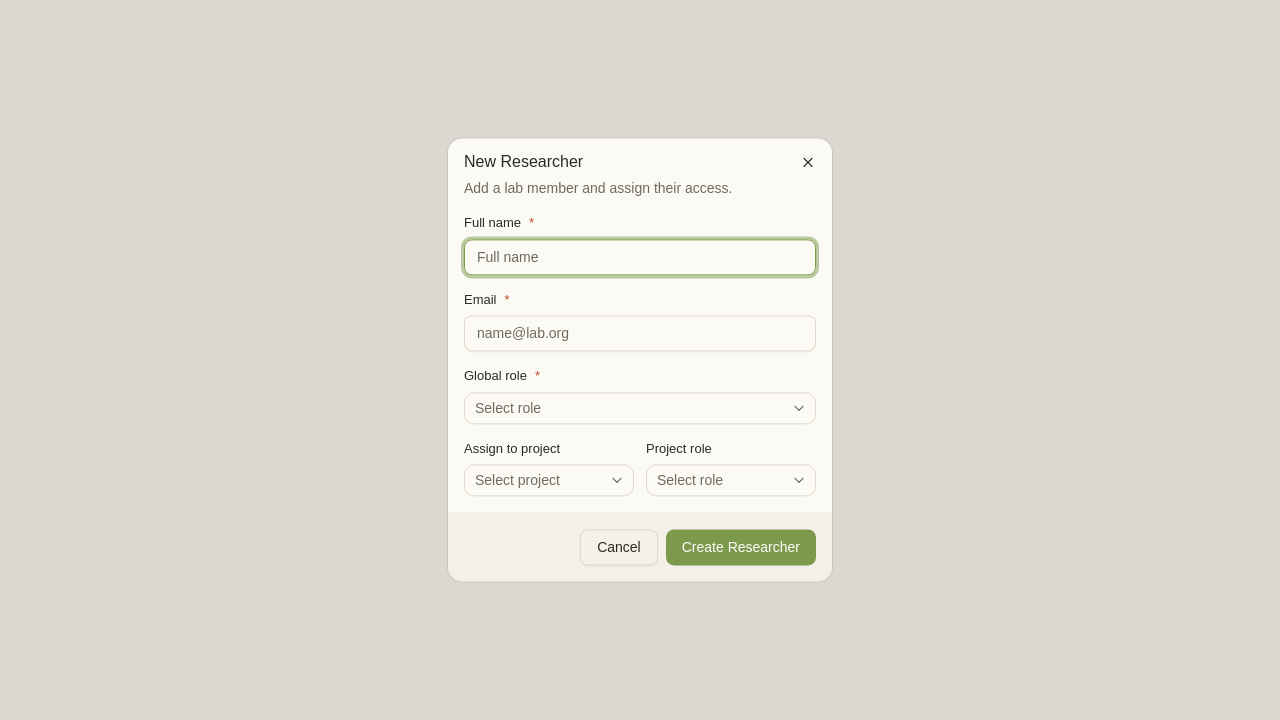
it: ResearcherFormDialog › should show an invalid-email error when an invalid email is typed
Type "Grace" into the field with placeholder "Full name".
click(640, 257); type("Grace")  # box [464, 239, 816, 275]
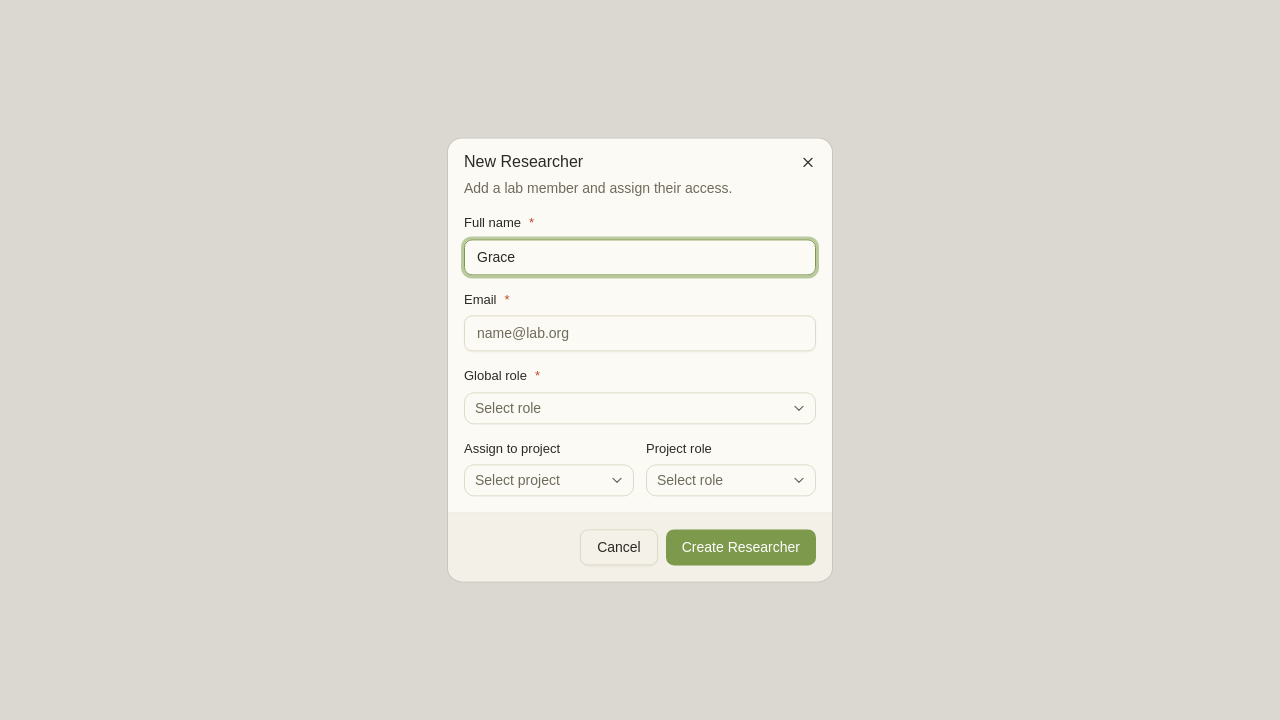
Type "not-an-email" into the field with placeholder "name@lab.org".
click(640, 334); type("not-an-email")  # box [464, 316, 816, 352]
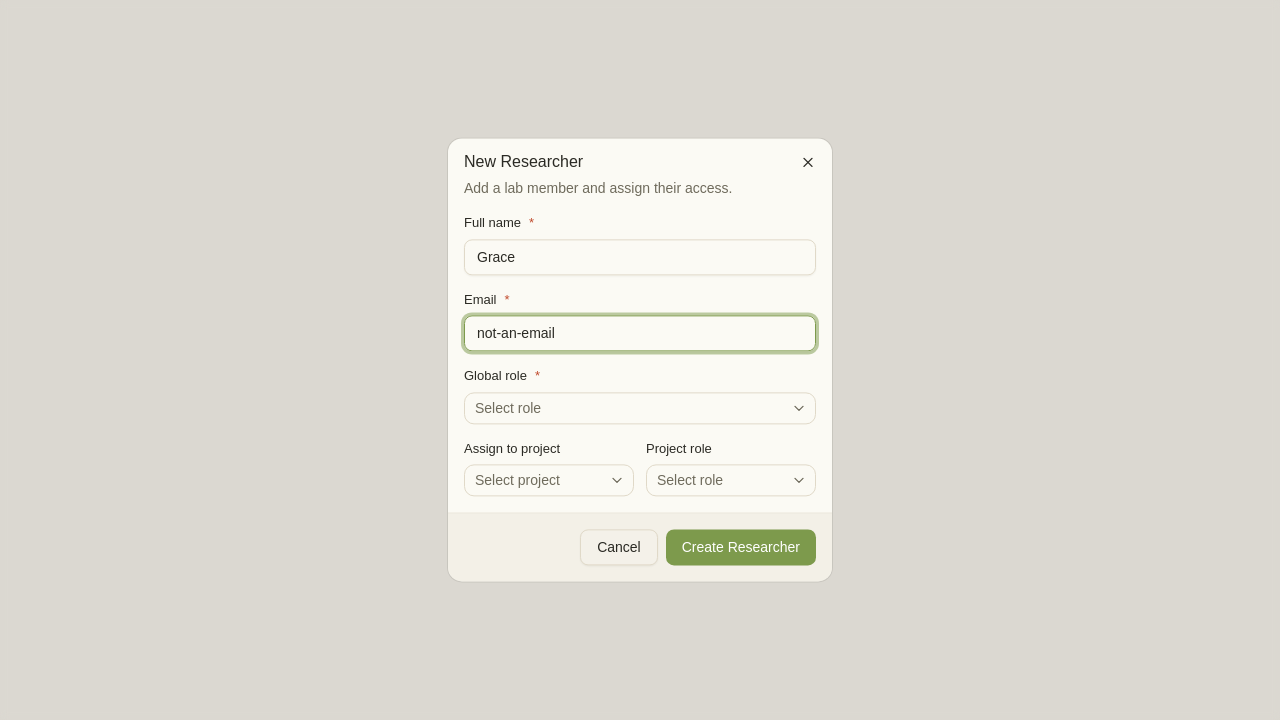
Submit the form, box [464, 154, 816, 566]
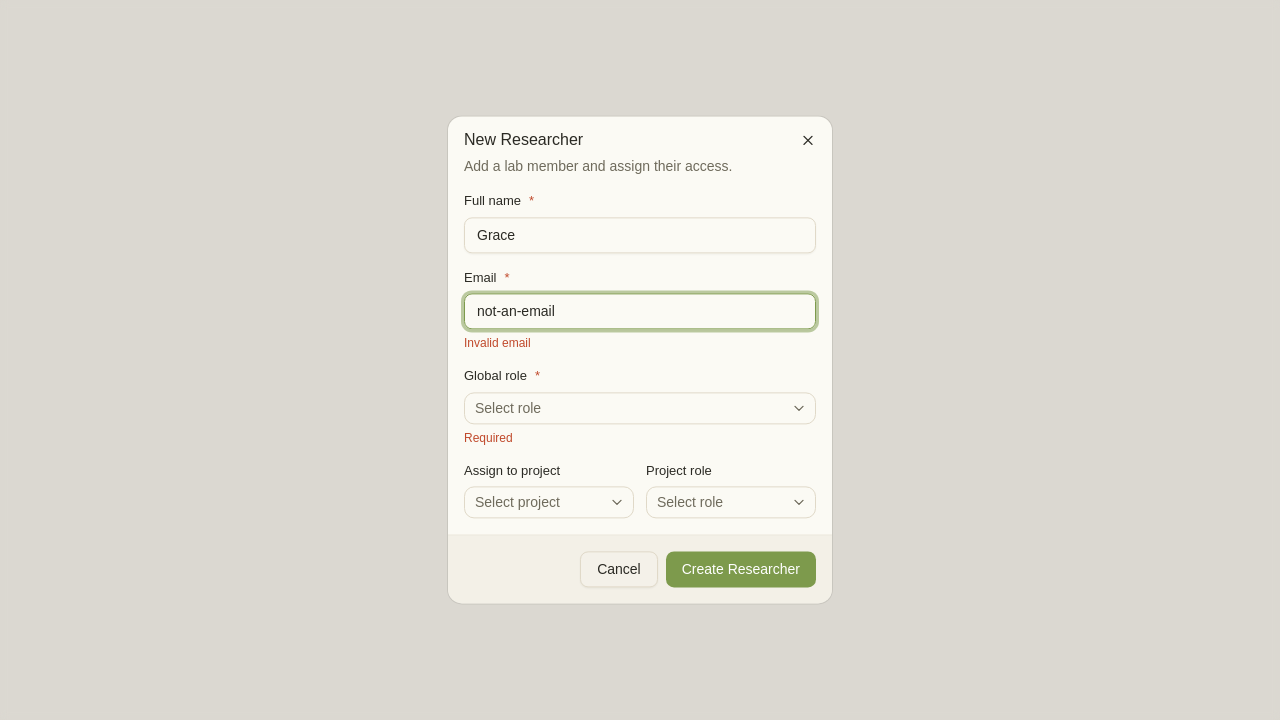
Check: the text "Invalid email" is shown, box [464, 336, 531, 350]
